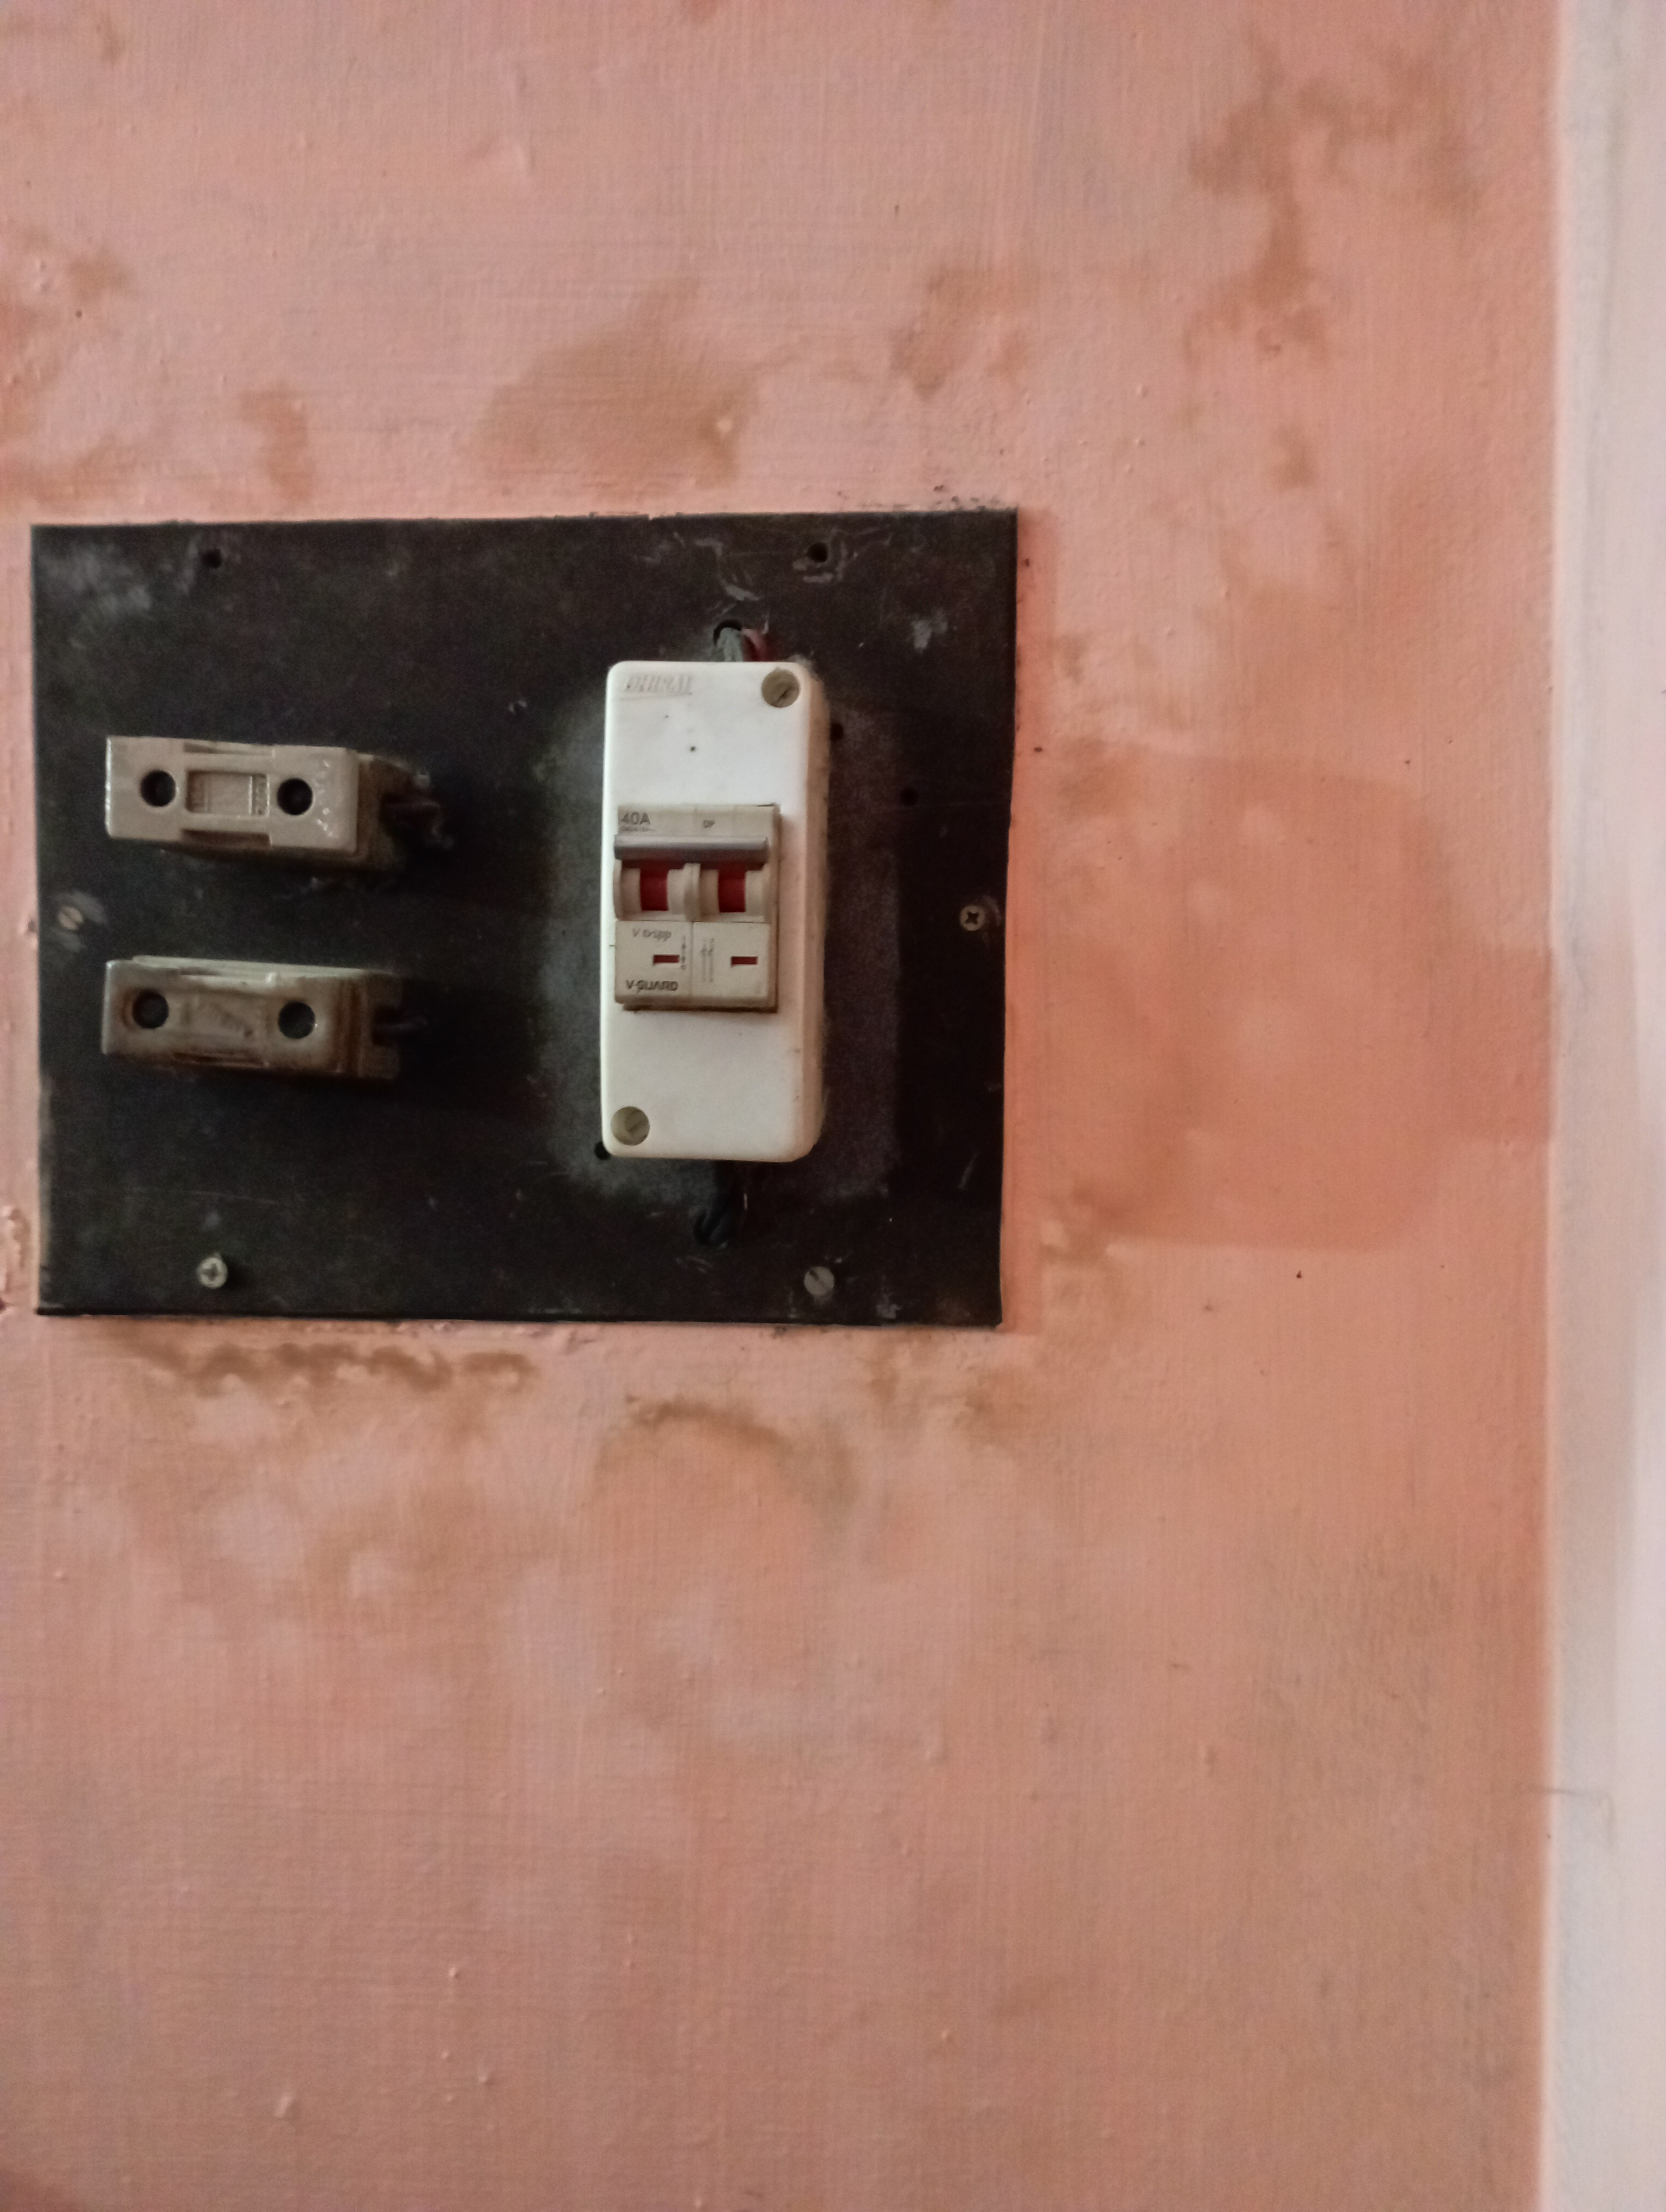ciruit_breaker: (572, 656, 859, 1172)
fuse: (87, 722, 424, 887), (96, 934, 410, 1093)
